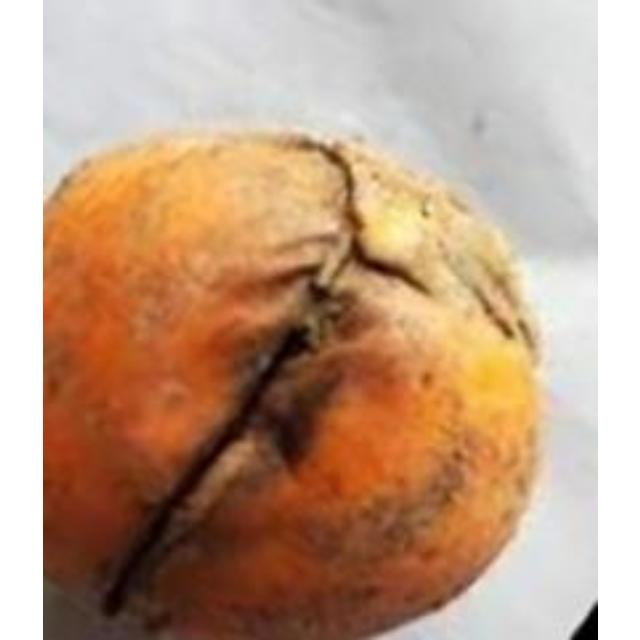damaged: (42, 127, 536, 637)
